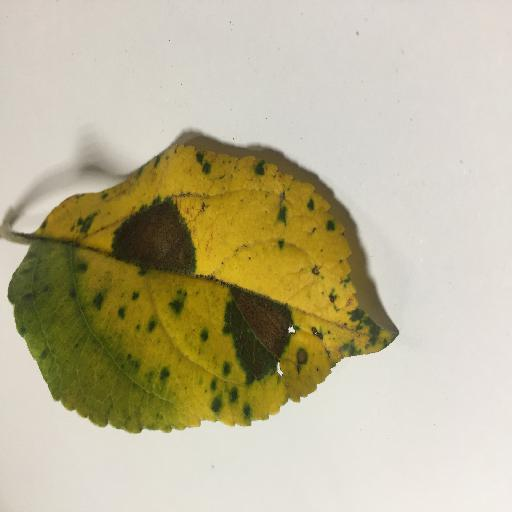Brown_Spot: (102, 216, 194, 266), (228, 287, 290, 349)
